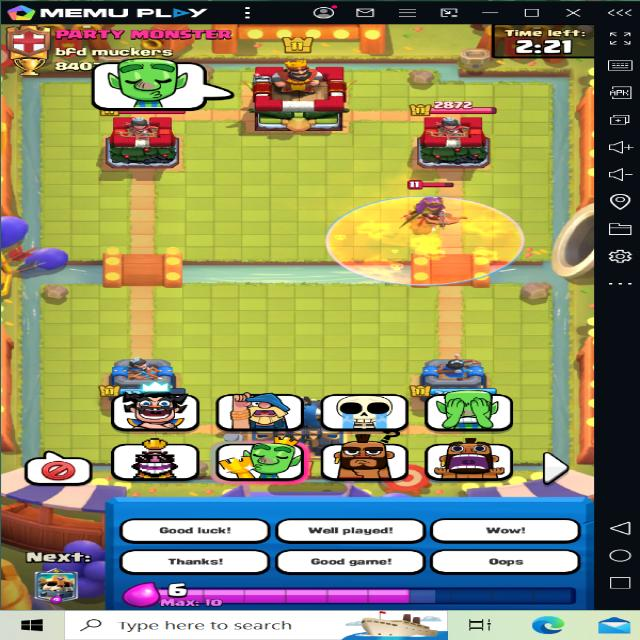archer-queen: (392, 180, 474, 231)
